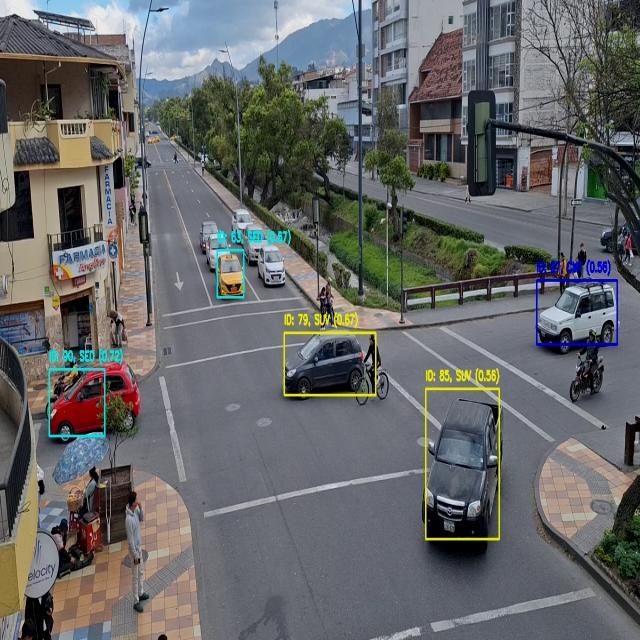CMT: (426, 394, 501, 548), (244, 225, 266, 264)
MOTORCYCLE: (568, 354, 606, 402)
SED: (218, 253, 245, 299), (258, 247, 286, 287)
SUV: (537, 283, 617, 348), (233, 210, 252, 235)
